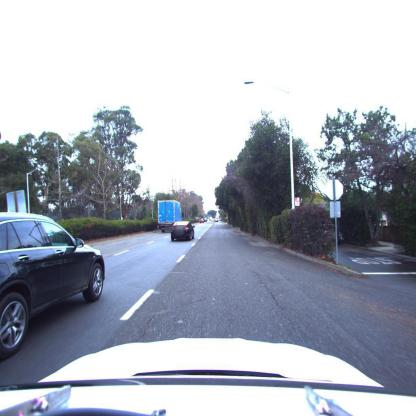car: (1, 211, 108, 365), (170, 221, 194, 241)
truck: (158, 201, 182, 232)
